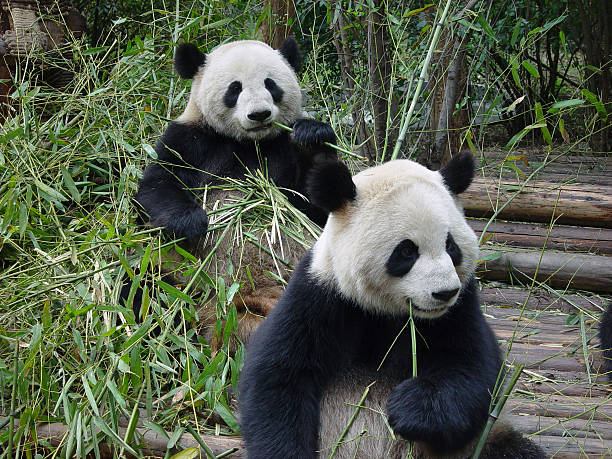panda: (302, 144, 495, 324), (163, 24, 335, 158)
